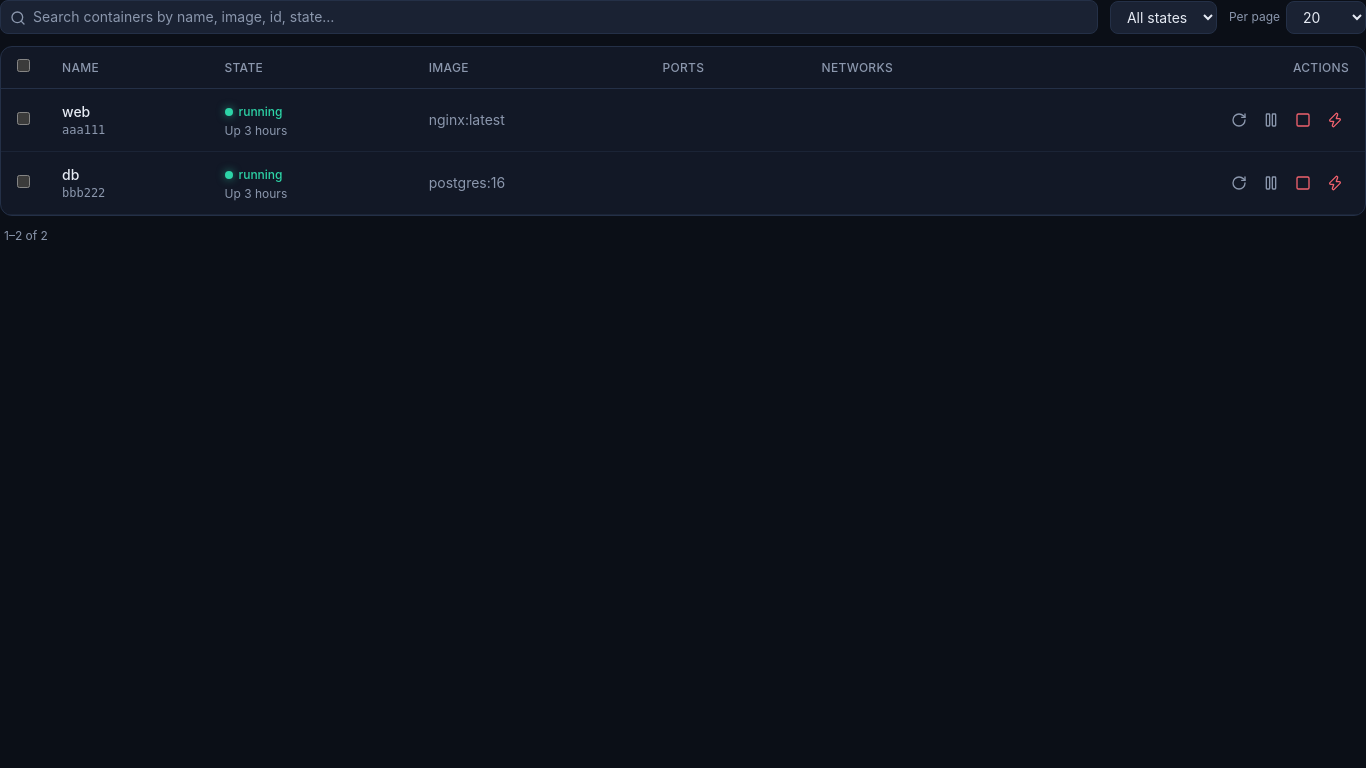
Test case: post-action summary › clears the selection after the summary is dismissed
The image size is (1366, 768).
Click the checkbox named "Select all containers".
click(24, 66)  # box [17,59,30,72]
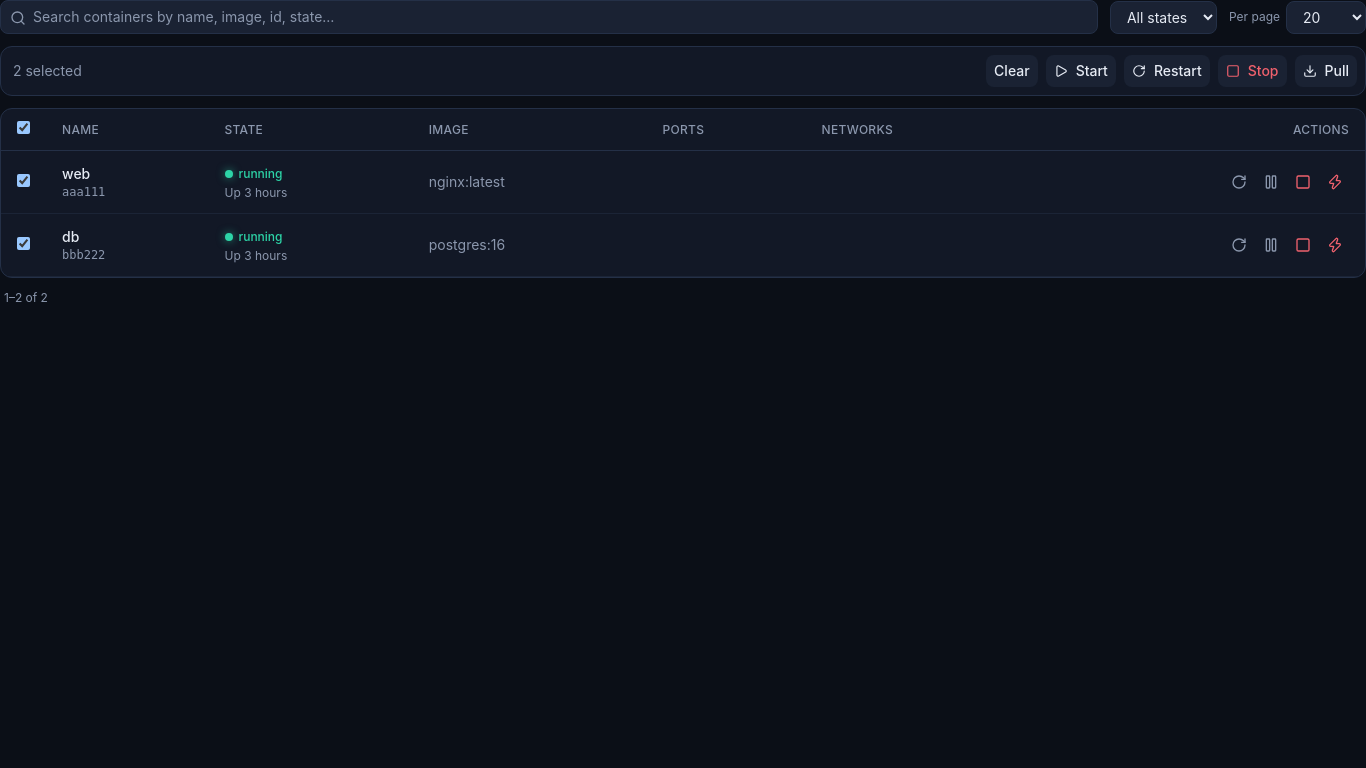
Click the button "Restart".
click(1167, 71)  # box [1124,55,1210,87]
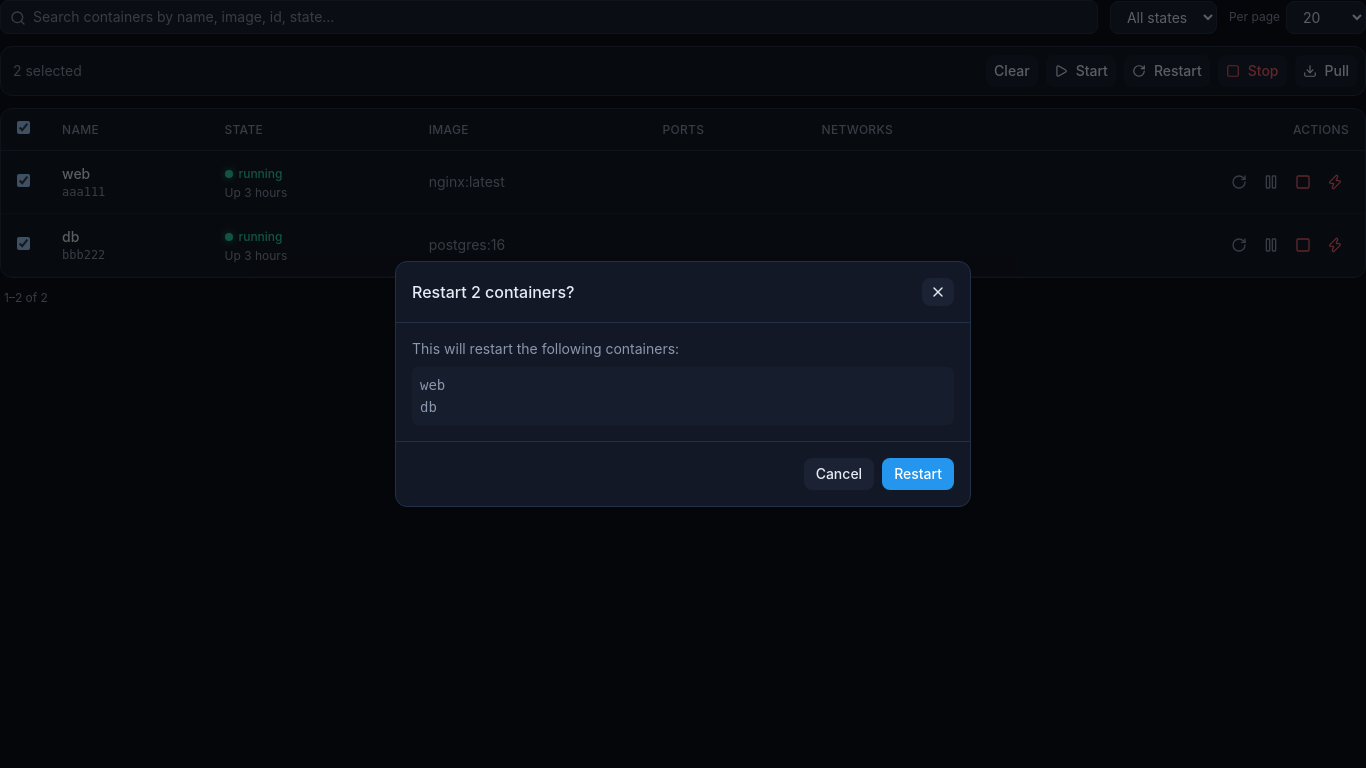
Click the button "Restart".
click(918, 474)  # box [882,458,954,490]
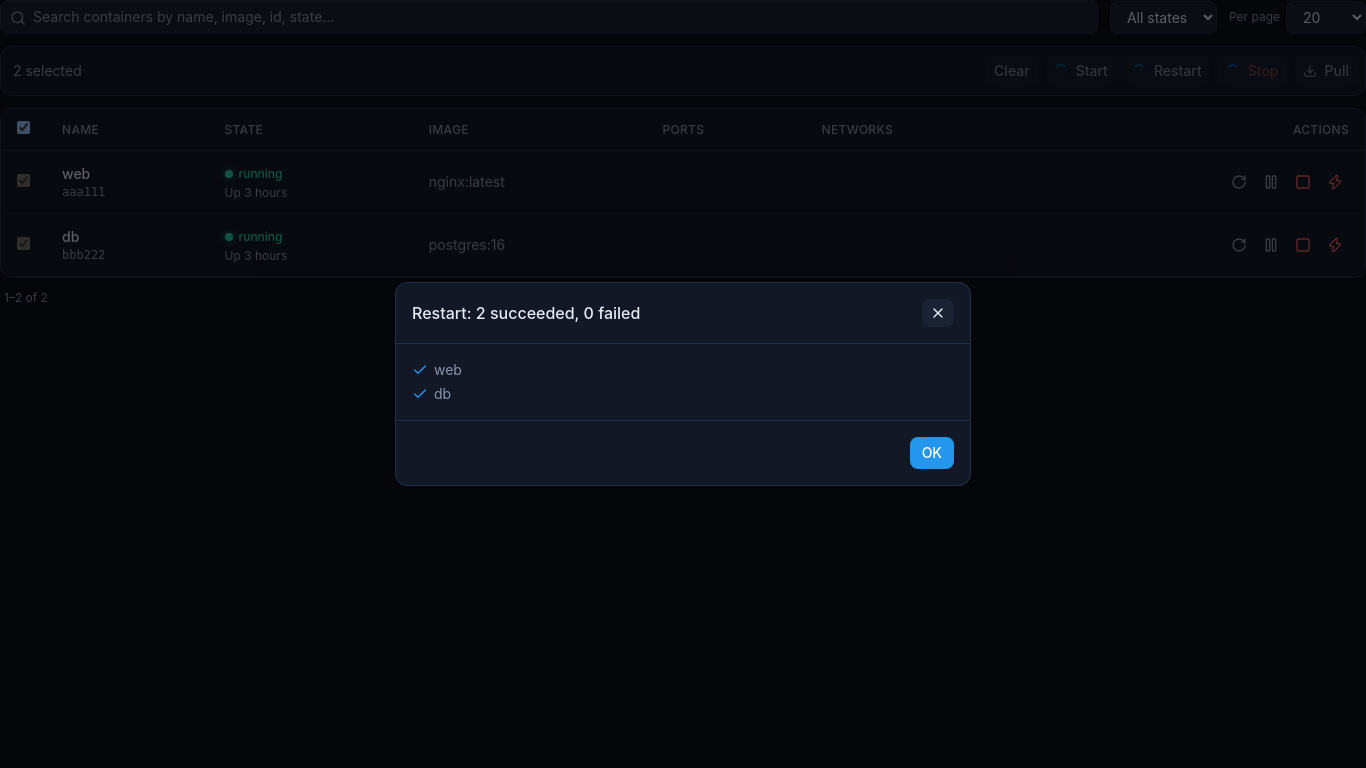
expect the button "OK" is shown: met
Click the button "OK".
click(932, 453)  # box [910,437,954,469]
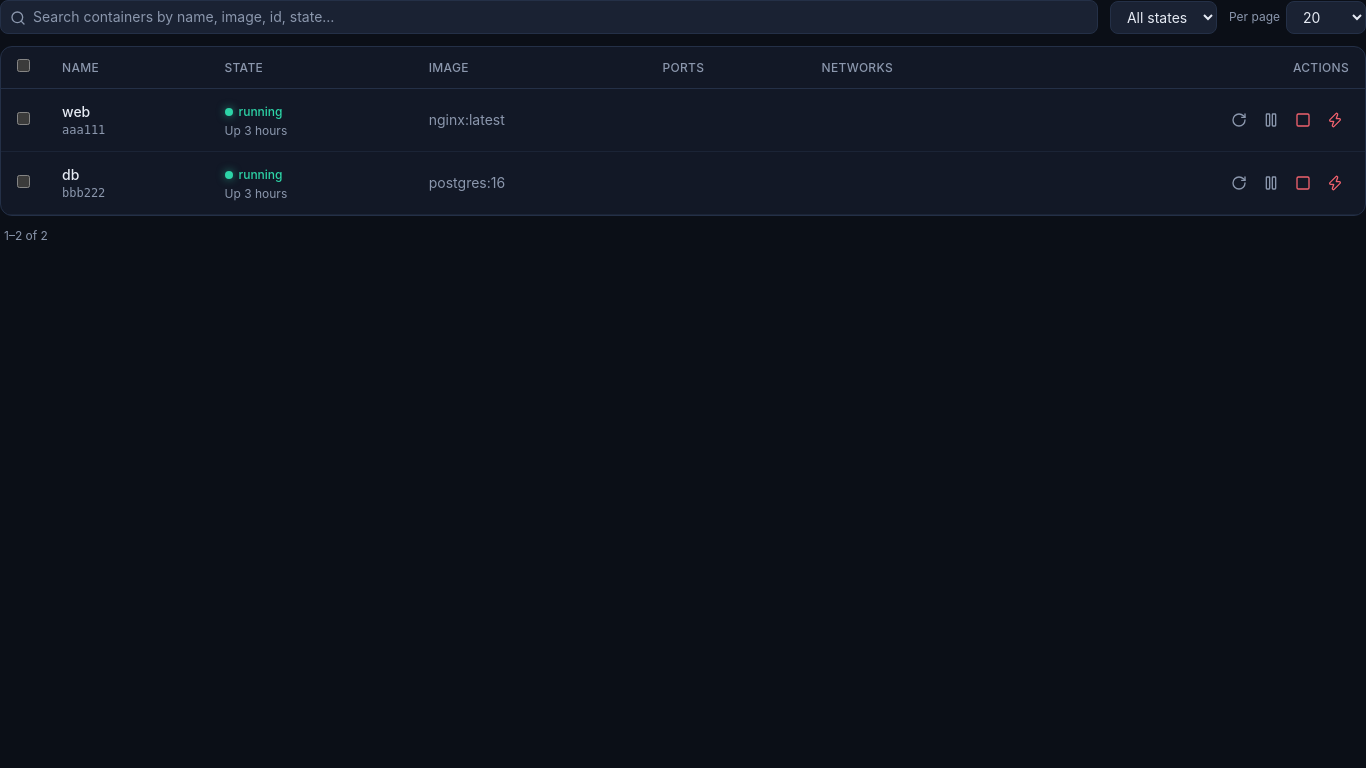
expect the text "selected" is gone: met
